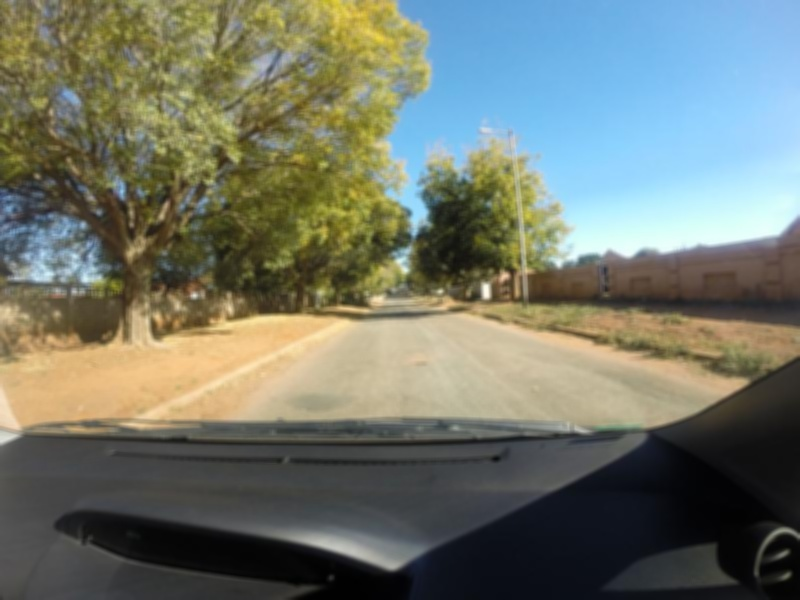pothole: (384, 337, 449, 368)
